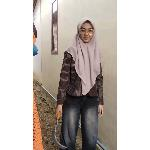Celurit: (45, 105, 70, 150)
